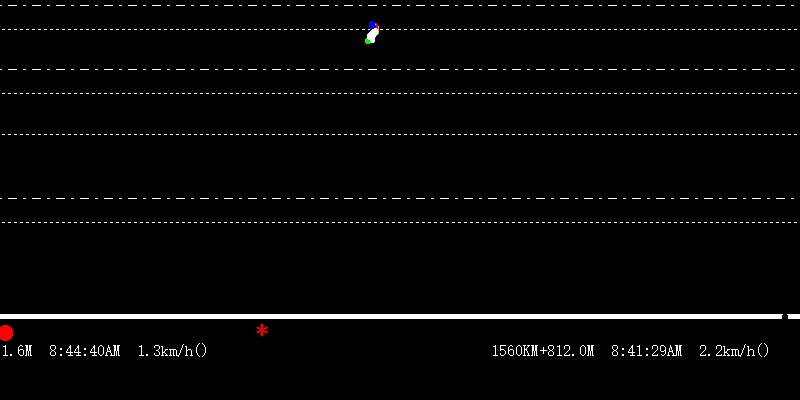face_2: (364, 21, 379, 44)
star: (254, 321, 269, 338)
